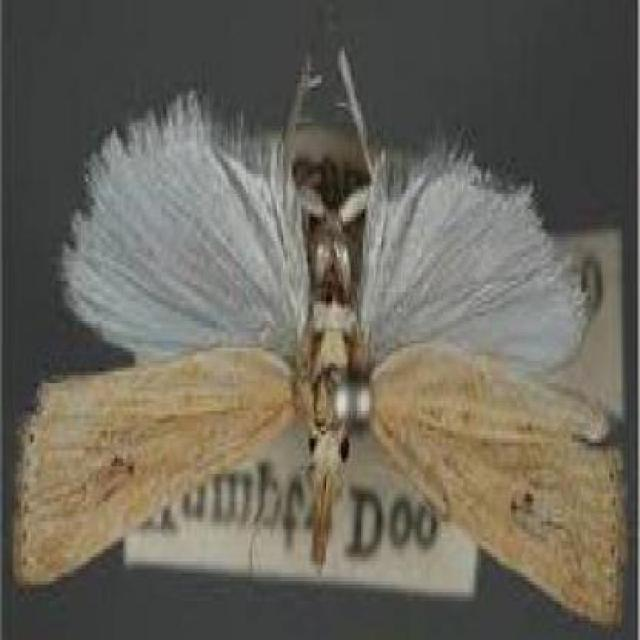stem-borer: (10, 41, 629, 634)
